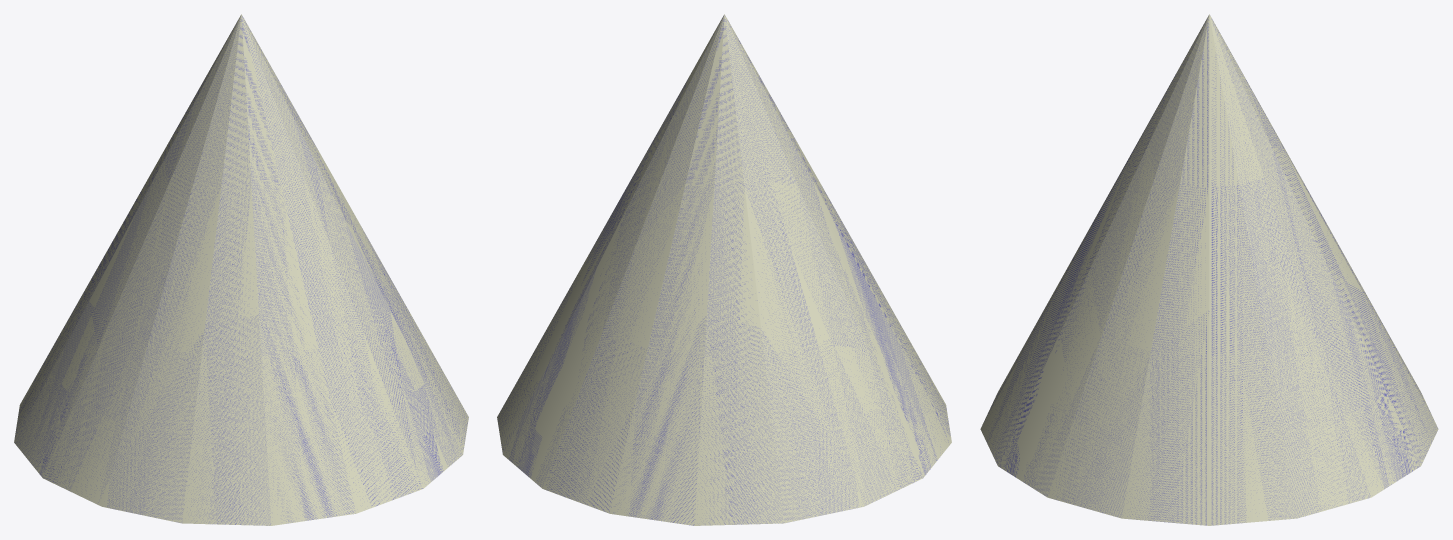
File: LightCone.dae
The picture shows the model from 3 angles, left to right: view 1: azimuth 30°, elevation 25°; view 2: azimuth 150°, elevation 25°; view 3: azimuth 270°, elevation 25°; orthographic projection.
Parts seen in each view (by area): view 1: SketchUp; view 2: SketchUp; view 3: SketchUp.
Part boxes in pixels (x1,y1,x2,y2): SketchUp: (14,14,468,525); SketchUp: (497,14,951,525); SketchUp: (980,14,1438,525).
Bounding box in the file's own units: 120 × 120 × 120.
